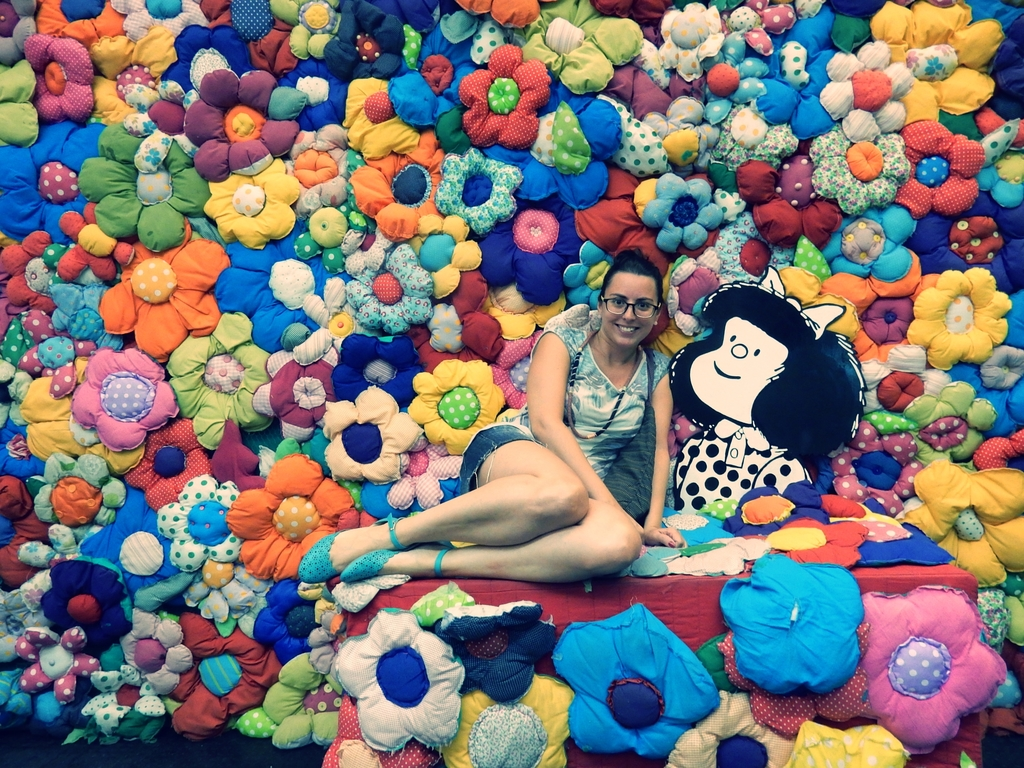Human_hand: (644, 527, 684, 549)
